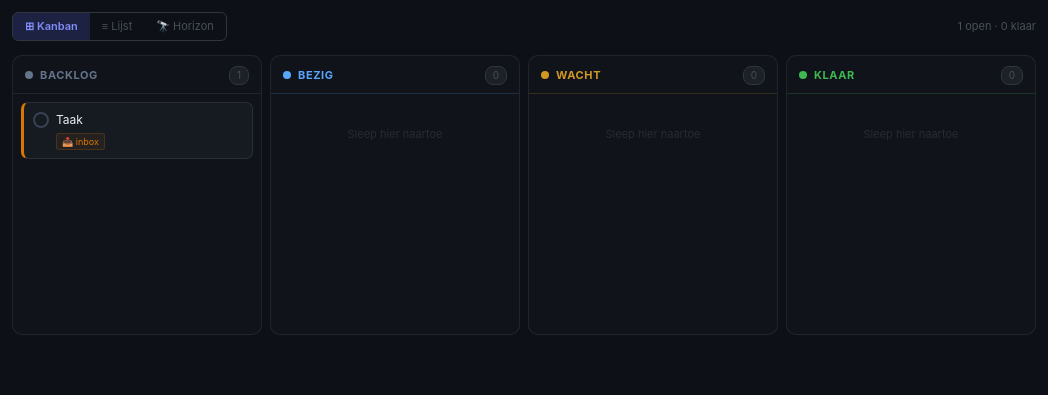
Test: TasksTab — horizon-weergave › wisselt naar de horizon-weergave via de knop
This screenshot has width=1048, height=395.
Click the button "🔭 Horizon" at (185, 26), box [144,13,226,40]
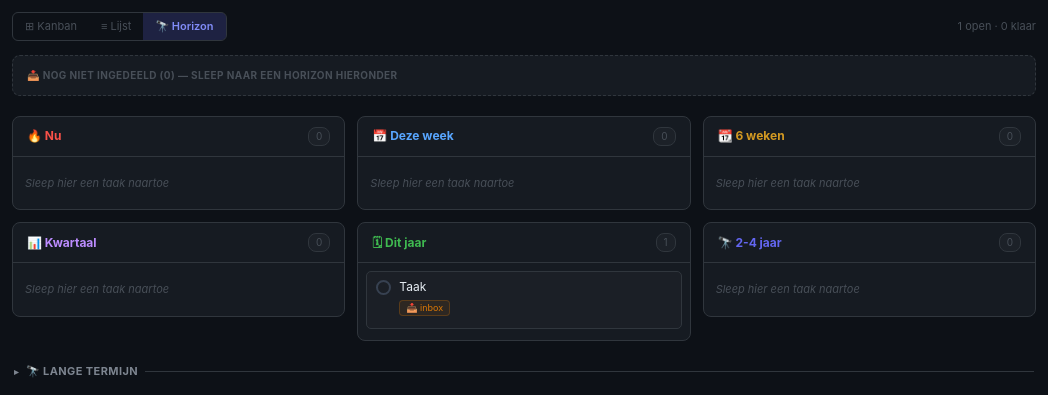
Result: the text "Backlog" is gone
Result: the text "📥 Nog niet ingedeeld (0) — sleep naar een horizon hieronder" is shown at [27,68,398,80]
